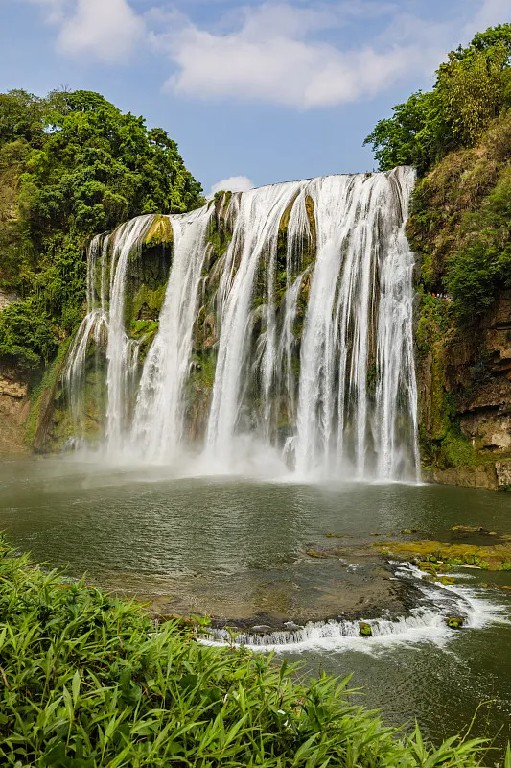Huangguoshu: (58, 167, 422, 486)
